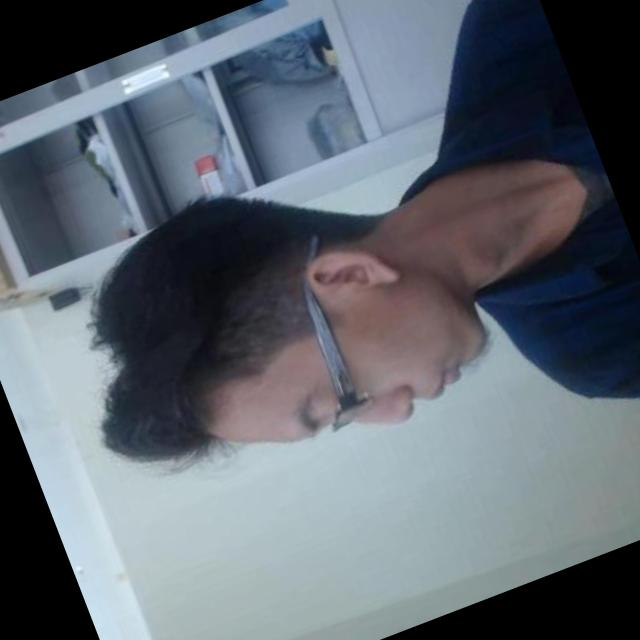bareface: (68, 107, 506, 543)
